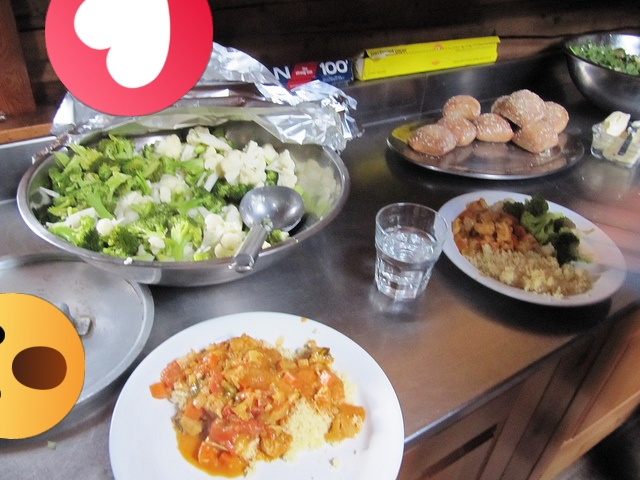love: (45, 0, 213, 116)
wow: (0, 293, 85, 439)
